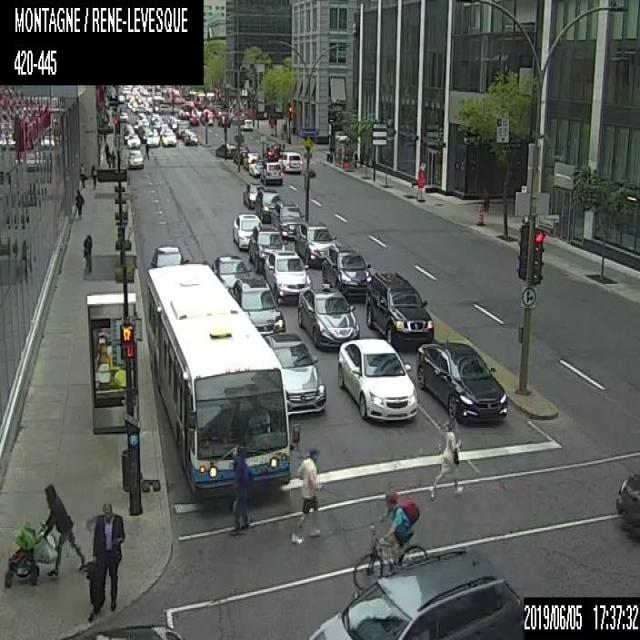bus: (141, 262, 286, 508), (152, 95, 164, 111)
construction: (416, 170, 423, 200), (476, 205, 484, 224)
cyclist: (350, 489, 432, 588)
pedestrian: (2, 483, 84, 588), (86, 500, 124, 612), (291, 445, 323, 544), (428, 418, 464, 498), (228, 446, 248, 534), (82, 233, 92, 272), (74, 190, 82, 213), (79, 161, 86, 187), (483, 188, 489, 213), (143, 141, 149, 160), (90, 164, 95, 185)
vehicle: (305, 548, 523, 638), (416, 341, 506, 424), (337, 338, 417, 422), (263, 332, 325, 416), (365, 272, 434, 346), (225, 278, 285, 345), (297, 286, 360, 346), (321, 245, 374, 304), (263, 249, 312, 304), (294, 221, 336, 267), (246, 224, 285, 273), (268, 199, 305, 239), (616, 473, 639, 528), (232, 214, 263, 251), (254, 188, 284, 222), (151, 246, 186, 266), (260, 160, 282, 185), (242, 183, 264, 207), (277, 151, 302, 172), (215, 141, 236, 158), (232, 144, 248, 162), (126, 150, 142, 168), (248, 156, 263, 175), (243, 151, 259, 168), (161, 130, 177, 145), (182, 129, 197, 145), (138, 124, 152, 139), (176, 120, 188, 135), (218, 114, 230, 128), (238, 118, 252, 130), (158, 122, 170, 135), (145, 134, 159, 145), (128, 136, 140, 148), (188, 113, 199, 125), (123, 128, 134, 140), (118, 110, 128, 122), (140, 115, 148, 126), (134, 119, 141, 129)
